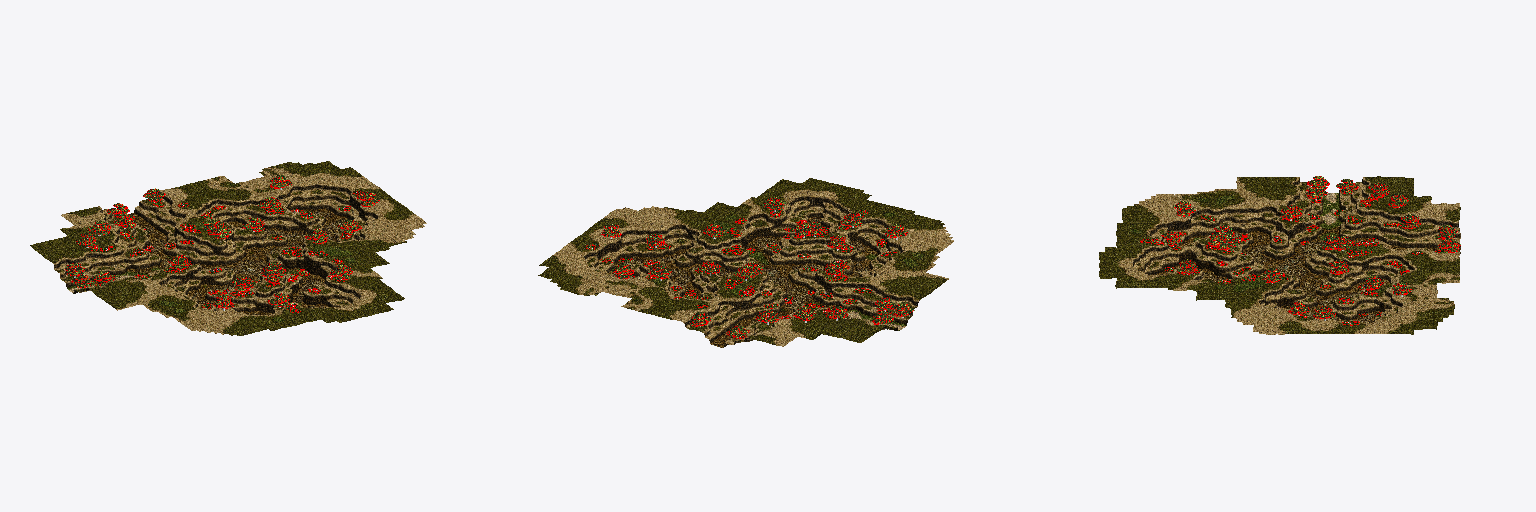
3 renders of one model, left to right at view 1: azimuth 30°, elevation 25°; view 2: azimuth 150°, elevation 25°; view 3: azimuth 270°, elevation 25°, orthographic.
Visible parts, largest first — view 1: Object.002; view 2: Object.002; view 3: Object.002.
Boxes of the visible parts, x1=… form: Object.002: x1=30, y1=161, x2=426, y2=335; Object.002: x1=538, y1=178, x2=953, y2=347; Object.002: x1=1099, y1=176, x2=1460, y2=334.
Bounding box in the file's own units: 131 × 12.29 × 126.
21 materials, 20 textured.